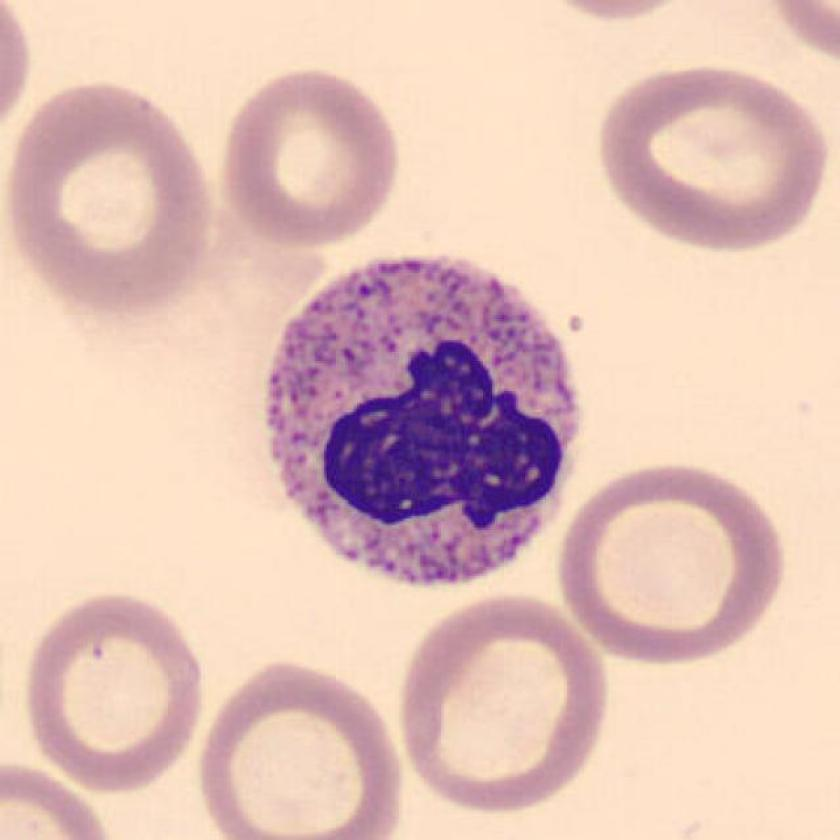neutrophil: (269, 257, 577, 582)
